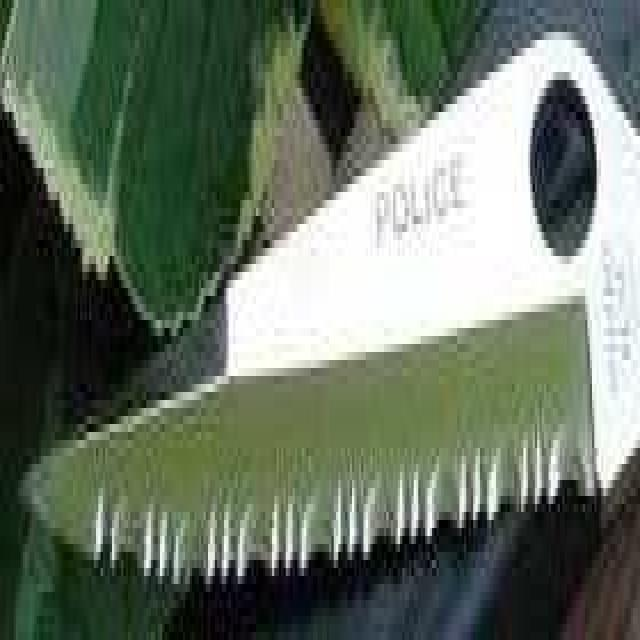Knife: (7, 0, 638, 592)
